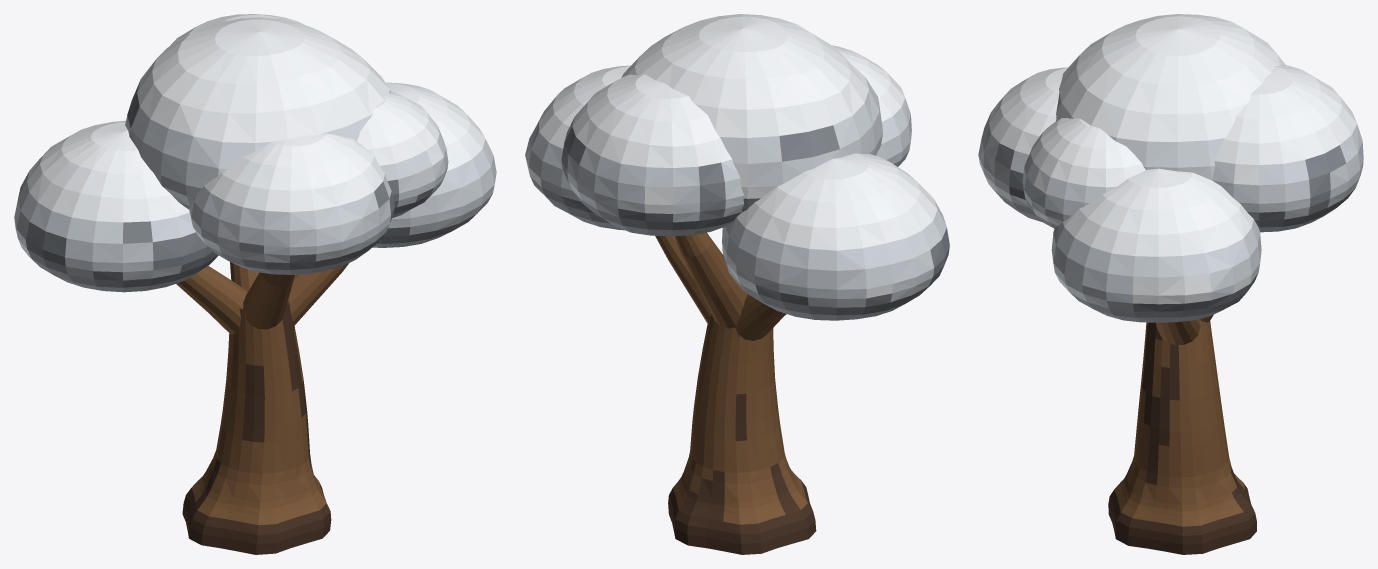
The model's file is EmberoakTree.obj.
3 renders of one model, left to right at view 1: azimuth 30°, elevation 25°; view 2: azimuth 150°, elevation 25°; view 3: azimuth 270°, elevation 25°, orthographic.
Size of the model in its own units: 10.19 by 11.38 by 8.04.
